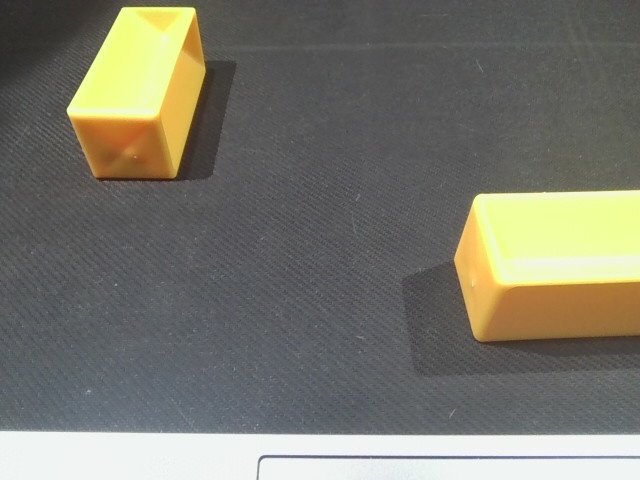YellowSample: (450, 187, 640, 344), (65, 1, 209, 187)
